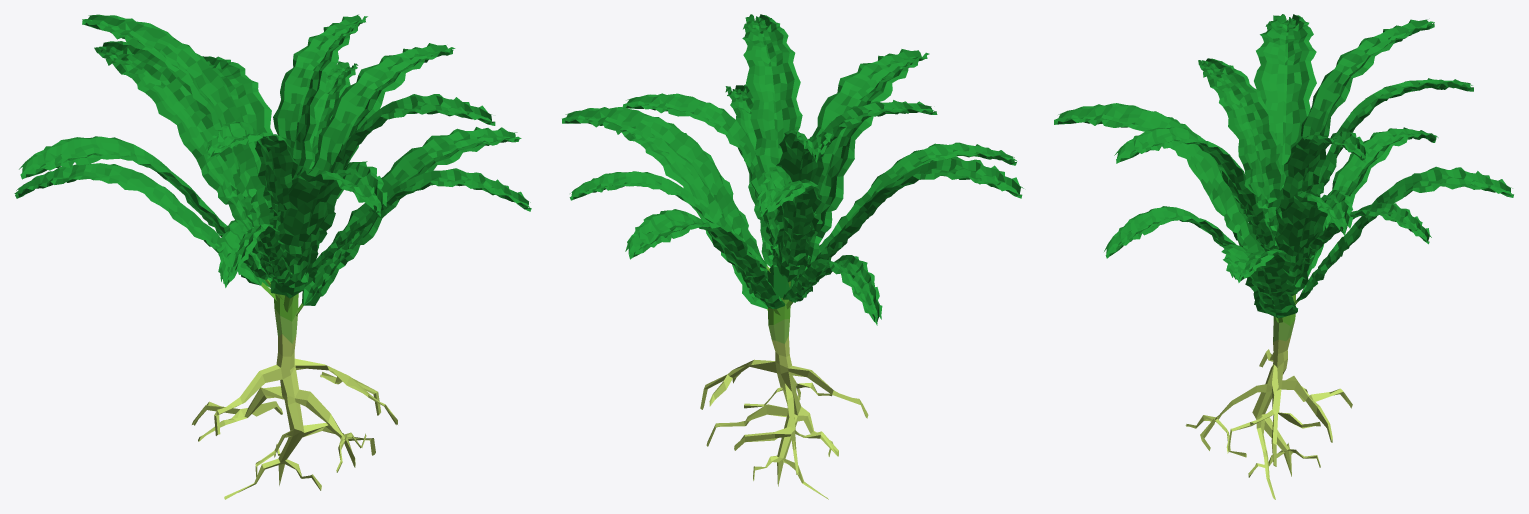
The model's file is kale_3.glb.
The picture shows the model from 3 angles, left to right: view 1: azimuth 30°, elevation 25°; view 2: azimuth 150°, elevation 25°; view 3: azimuth 270°, elevation 25°; orthographic projection. The views are drawn at different scales.
Parts seen in each view (by area): view 1: kale 3; view 2: kale 3; view 3: kale 3.
Part boxes in pixels (left/top/right/bottom): kale 3: left=14, top=14, right=531, bottom=499; kale 3: left=562, top=14, right=1023, bottom=499; kale 3: left=1054, top=14, right=1513, bottom=499.
Bounding box in the file's own units: 11.89 × 10.68 × 10.97.
Materials: 1 (1 with a texture image).
